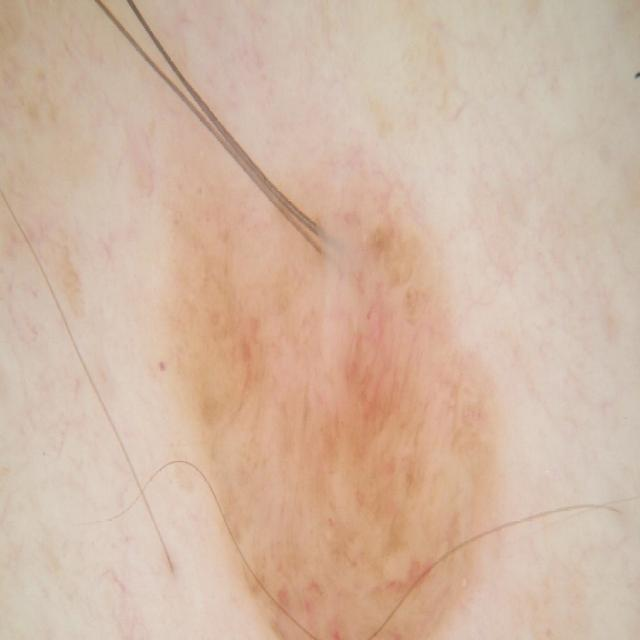Melanoma: (139, 138, 546, 640)
